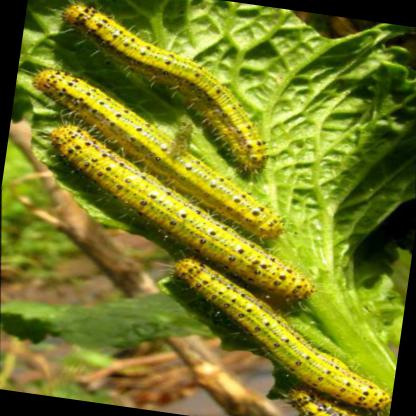pieris: (52, 123, 312, 304), (31, 72, 291, 241), (54, 0, 278, 176), (169, 261, 391, 411)
